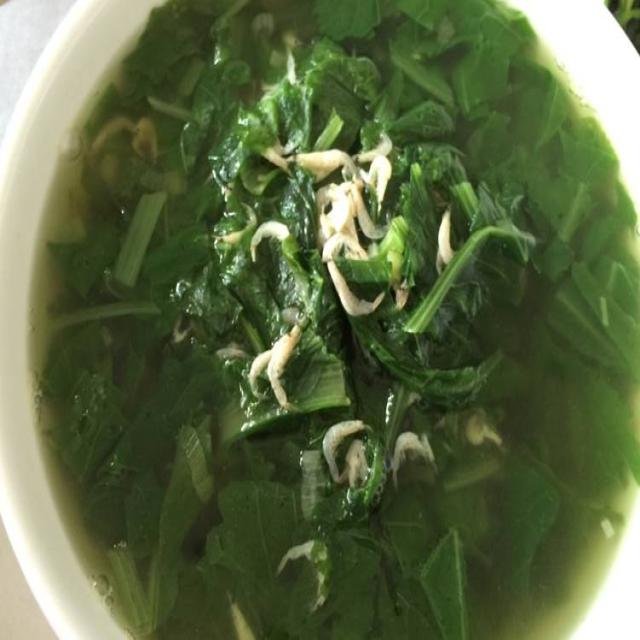canh cai: (31, 0, 639, 639)
